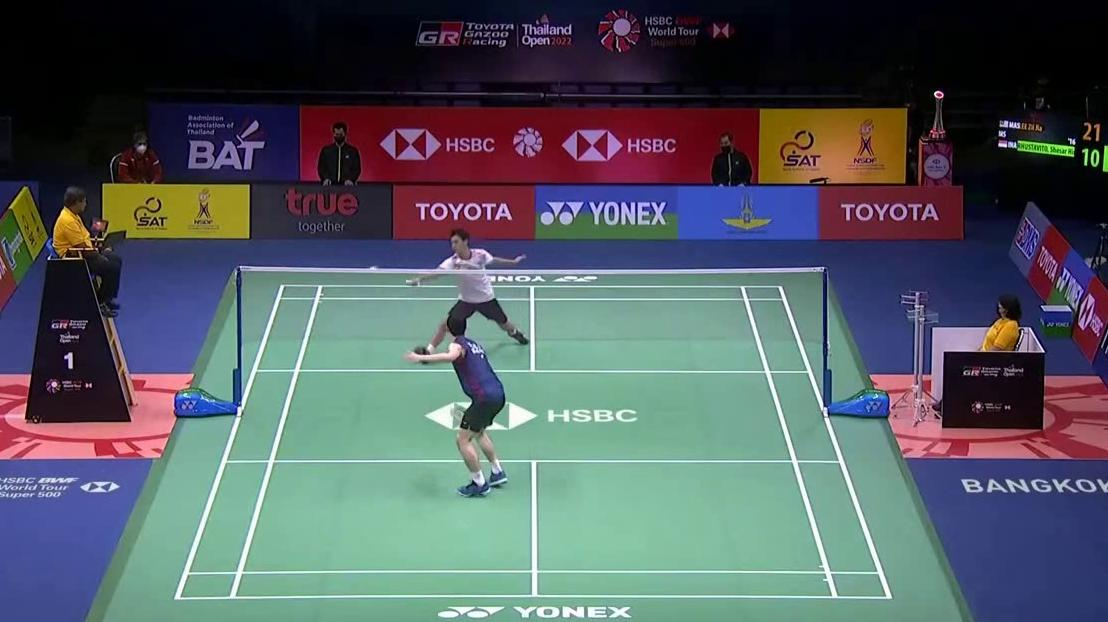racket: (451, 408, 500, 428)
shuttle: (369, 265, 380, 273)
